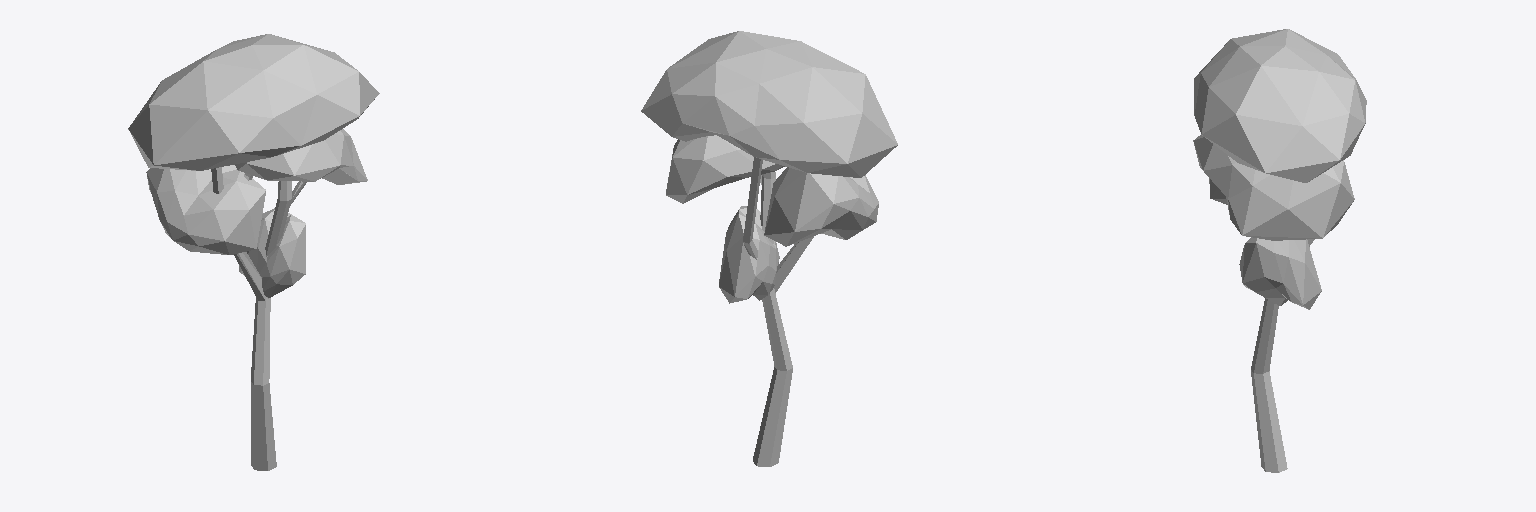
Rendered from boom1.obj.
3 renders of one model, left to right at view 1: azimuth 30°, elevation 25°; view 2: azimuth 150°, elevation 25°; view 3: azimuth 270°, elevation 25°, orthographic.
Visible parts, largest first — view 1: Tree_Type3_04_mesh; view 2: Tree_Type3_04_mesh; view 3: Tree_Type3_04_mesh.
Boxes of the visible parts, x1=… form: Tree_Type3_04_mesh: x1=128, y1=34, x2=379, y2=470; Tree_Type3_04_mesh: x1=641, y1=31, x2=897, y2=466; Tree_Type3_04_mesh: x1=1193, y1=29, x2=1366, y2=472.
Size of the model in its own units: 347 by 596 by 224.